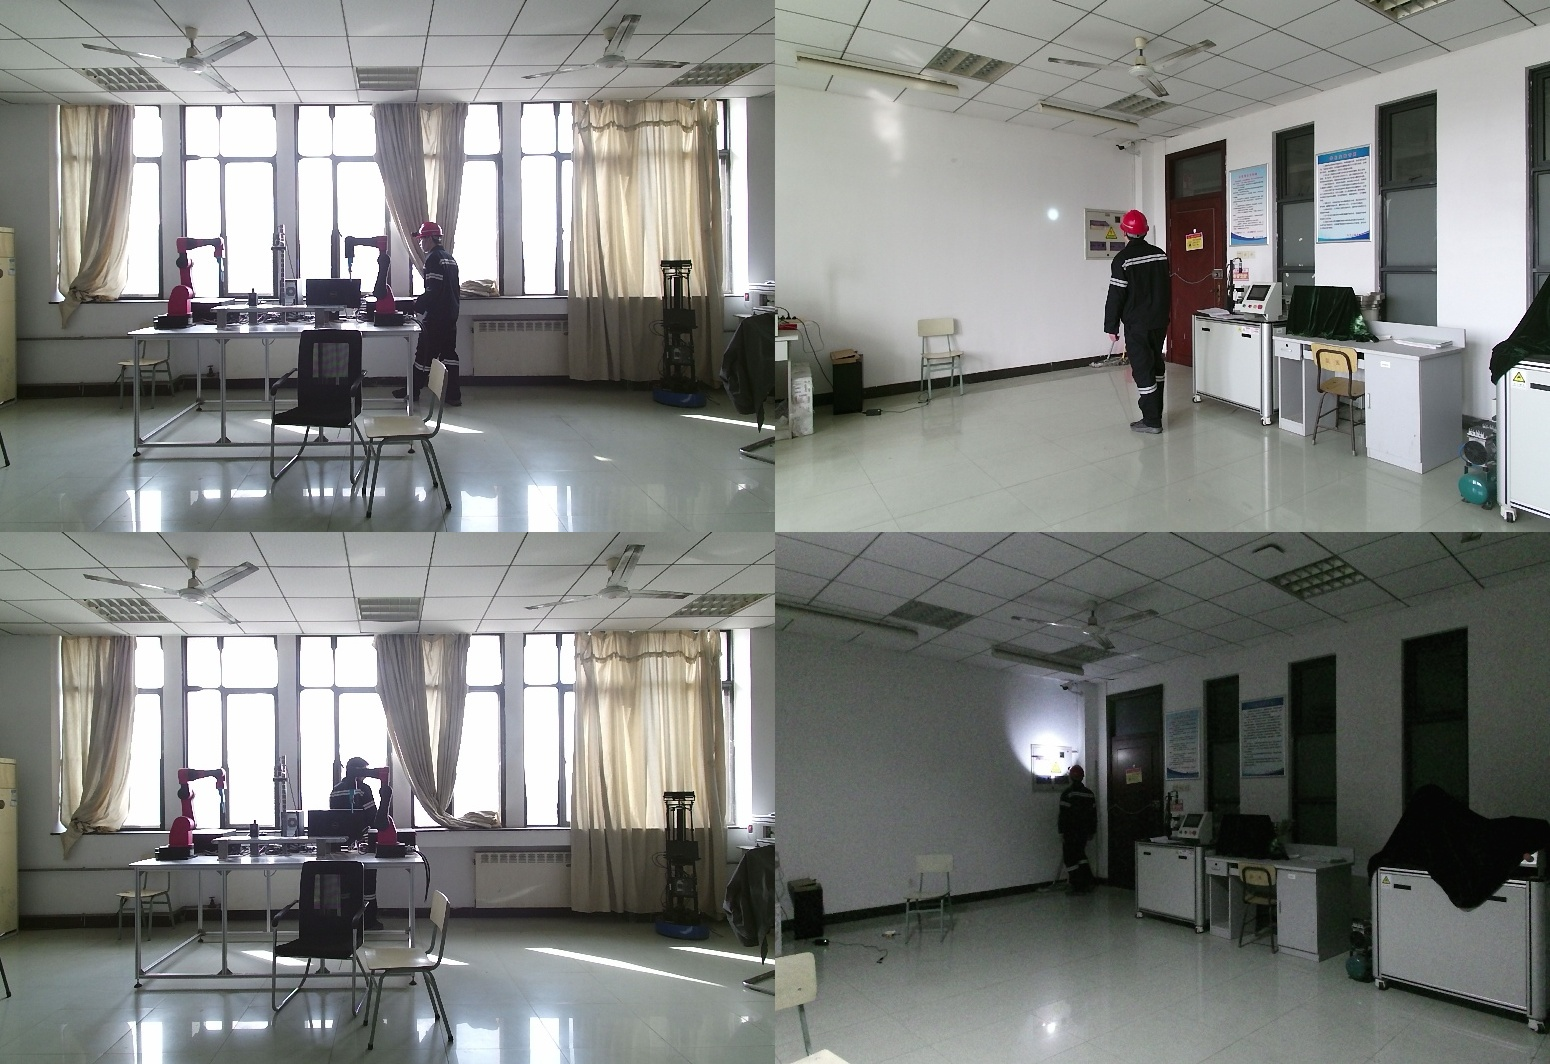person: (1104, 209, 1177, 431), (396, 224, 469, 409), (332, 758, 392, 935), (1051, 765, 1099, 899)
